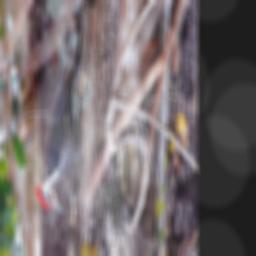Woodpecker: (32, 29, 82, 216)
